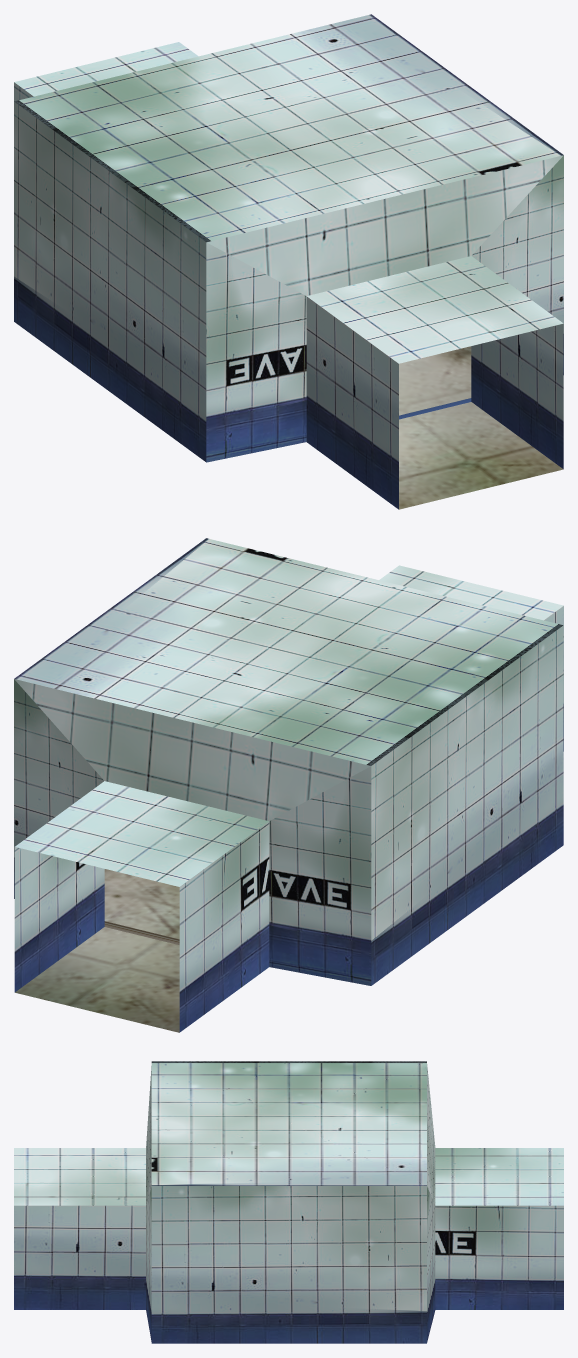
Rendered from metro right straight small room.fbx.
The picture shows the model from 3 angles, top to bottom: view 1: azimuth 30°, elevation 25°; view 2: azimuth 150°, elevation 25°; view 3: azimuth 270°, elevation 25°; orthographic projection. The views are drawn at different scales.
Parts seen in each view (by area): view 1: Small room; view 2: Small room; view 3: Small room.
Part boxes in pixels (x1,y1,x2,y2): Small room: (14,14,563,509); Small room: (14,538,563,1032); Small room: (14,1061,563,1343).
Size of the model in its own units: 3871 by 1222 by 2077.
